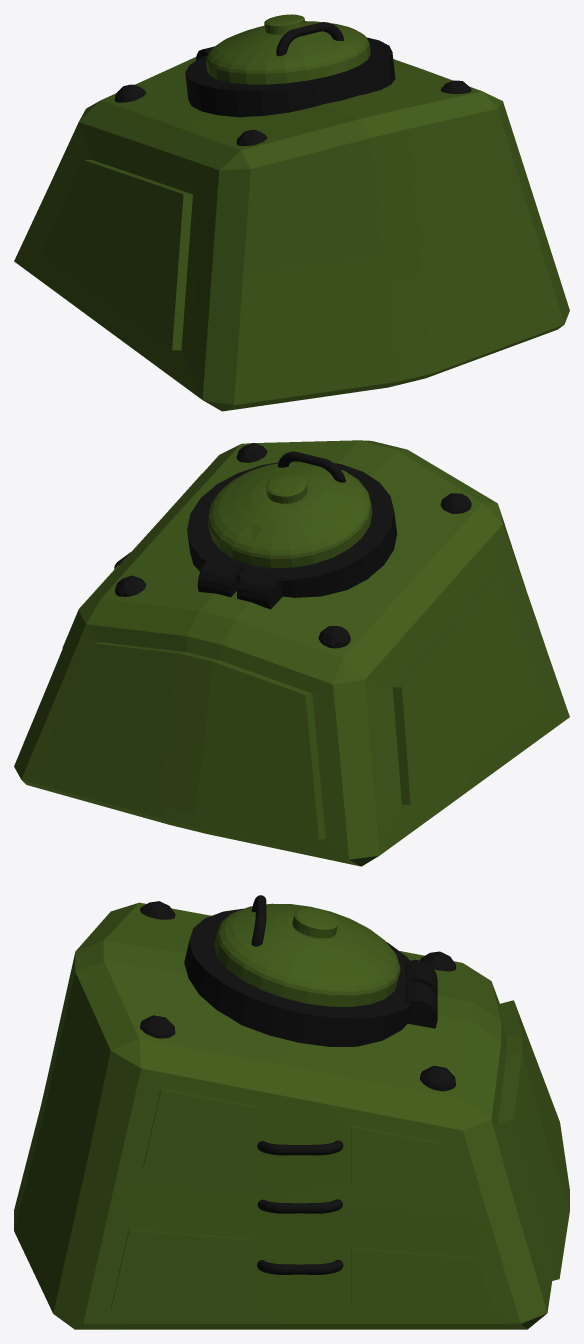
The model's file is turret_green.gltf.
3 views of the same model, one above another, from view 1: azimuth 30°, elevation 25°; view 2: azimuth 150°, elevation 25°; view 3: azimuth 270°, elevation 25° (orthographic). The views are drawn at different scales.
Visible parts, largest first — view 1: Turret.018, Entrance.018, Bolts.010; view 2: Turret.018, Entrance.018, Bolts.010; view 3: Turret.018, Entrance.018, Ladder.017, Bolts.010.
Part boxes in pixels (<box>): Turret.018: <box>14,57,569,411</box>; Entrance.018: <box>185,14,395,117</box>; Bolts.010: <box>114,80,471,145</box>; Turret.018: <box>14,440,569,866</box>; Entrance.018: <box>187,451,397,609</box>; Bolts.010: <box>115,443,471,648</box>; Turret.018: <box>14,902,569,1329</box>; Entrance.018: <box>184,895,437,1046</box>; Ladder.017: <box>257,1140,343,1274</box>; Bolts.010: <box>140,901,455,1091</box>.
Size of the model in its own units: 0.8909 by 0.645 by 0.9853.
